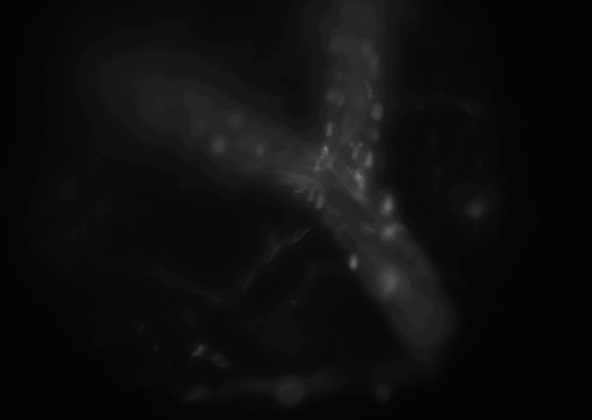cell: (369, 104, 383, 118), (347, 147, 361, 161), (360, 153, 374, 167), (317, 143, 331, 157), (311, 160, 325, 174), (324, 153, 338, 167), (327, 89, 341, 103), (350, 170, 364, 184), (335, 93, 349, 107), (354, 179, 368, 193), (347, 255, 361, 269), (384, 272, 398, 286), (381, 224, 395, 238), (381, 194, 395, 208), (386, 221, 400, 235), (380, 199, 394, 213), (313, 195, 327, 209), (304, 190, 318, 204), (252, 144, 266, 158), (212, 139, 226, 153), (357, 43, 371, 57), (367, 53, 381, 67), (332, 37, 346, 51), (367, 126, 381, 140), (227, 114, 241, 128), (322, 123, 336, 137)
